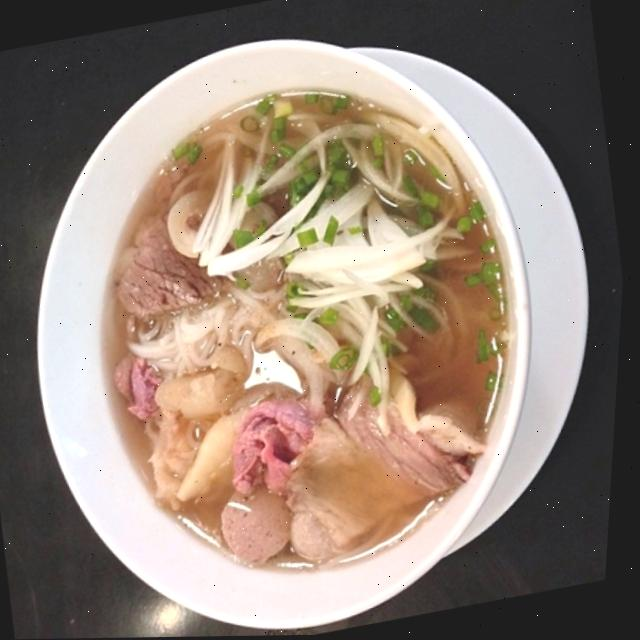面条主食: (26, 68, 572, 603)
